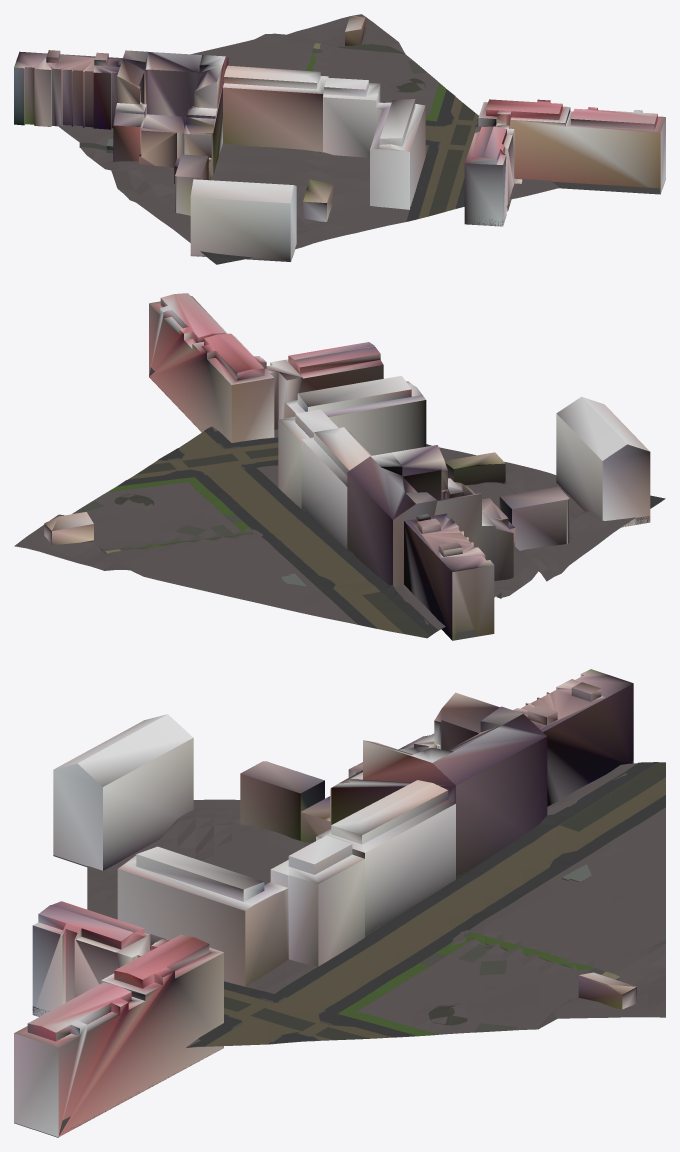
3 renders of one model, top to bottom at view 1: azimuth 30°, elevation 25°; view 2: azimuth 150°, elevation 25°; view 3: azimuth 270°, elevation 25°, orthographic. The views are drawn at different scales.
Visible parts, largest first — view 1: c_m01_m12; view 2: c_m01_m12; view 3: c_m01_m12.
Boxes of the visible parts, x1=… form: c_m01_m12: x1=14, y1=14, x2=665, y2=264; c_m01_m12: x1=14, y1=293, x2=665, y2=640; c_m01_m12: x1=14, y1=669, x2=665, y2=1137.
Bounding box in the file's own units: 175 × 37.29 × 144.
